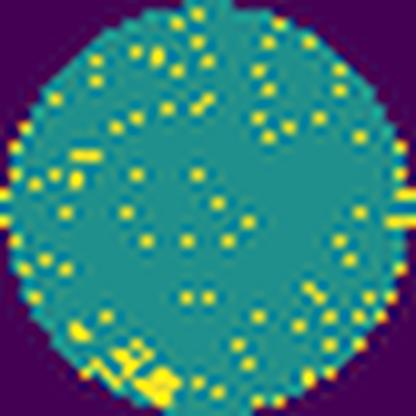Edge-Loc: (129, 364, 190, 410)
